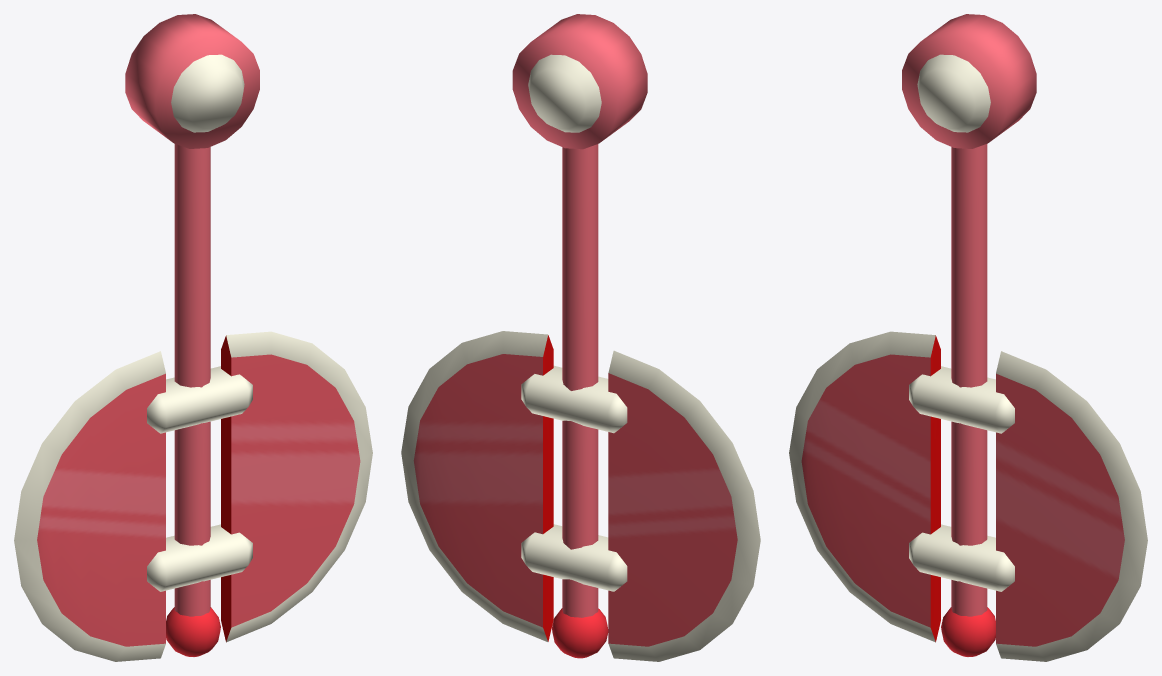
The model's file is obstacle_3.fbx.
3 renders of one model, left to right at view 1: azimuth 30°, elevation 25°; view 2: azimuth 150°, elevation 25°; view 3: azimuth 330°, elevation 25°, orthographic.
Parts seen in each view (by area): view 1: obstacle_3_a; view 2: obstacle_3_a; view 3: obstacle_3_a.
Boxes of the visible parts, x1=… form: obstacle_3_a: x1=14, y1=14, x2=372, y2=661; obstacle_3_a: x1=401, y1=14, x2=760, y2=661; obstacle_3_a: x1=789, y1=14, x2=1147, y2=661.
Size of the model in its own units: 5.2 by 8.7 by 1.12.
